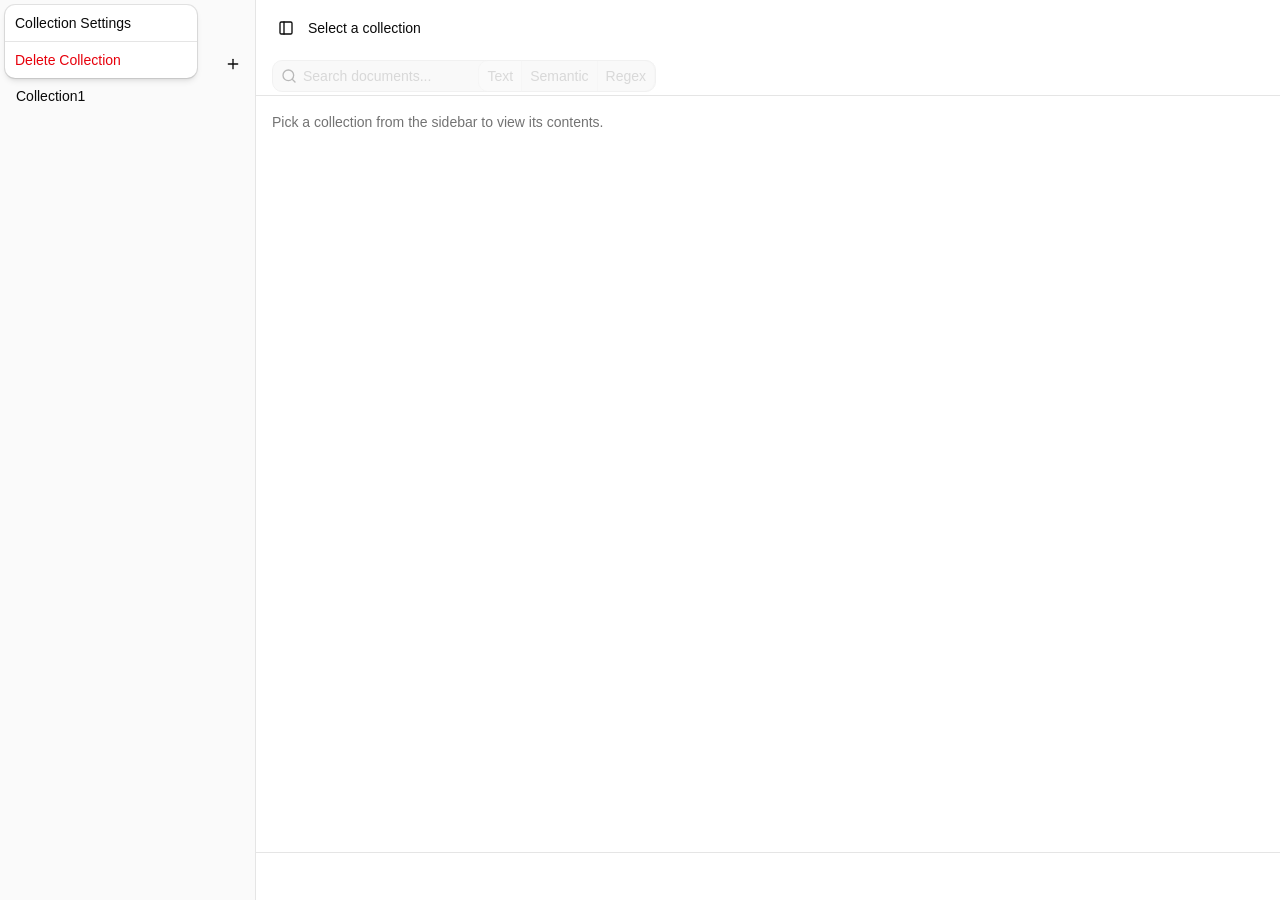
Test: Collections End to End › successfully edits a collection and renders it
Click the menu item "Collection Settings" at (73, 23), box [15,15,131,31]
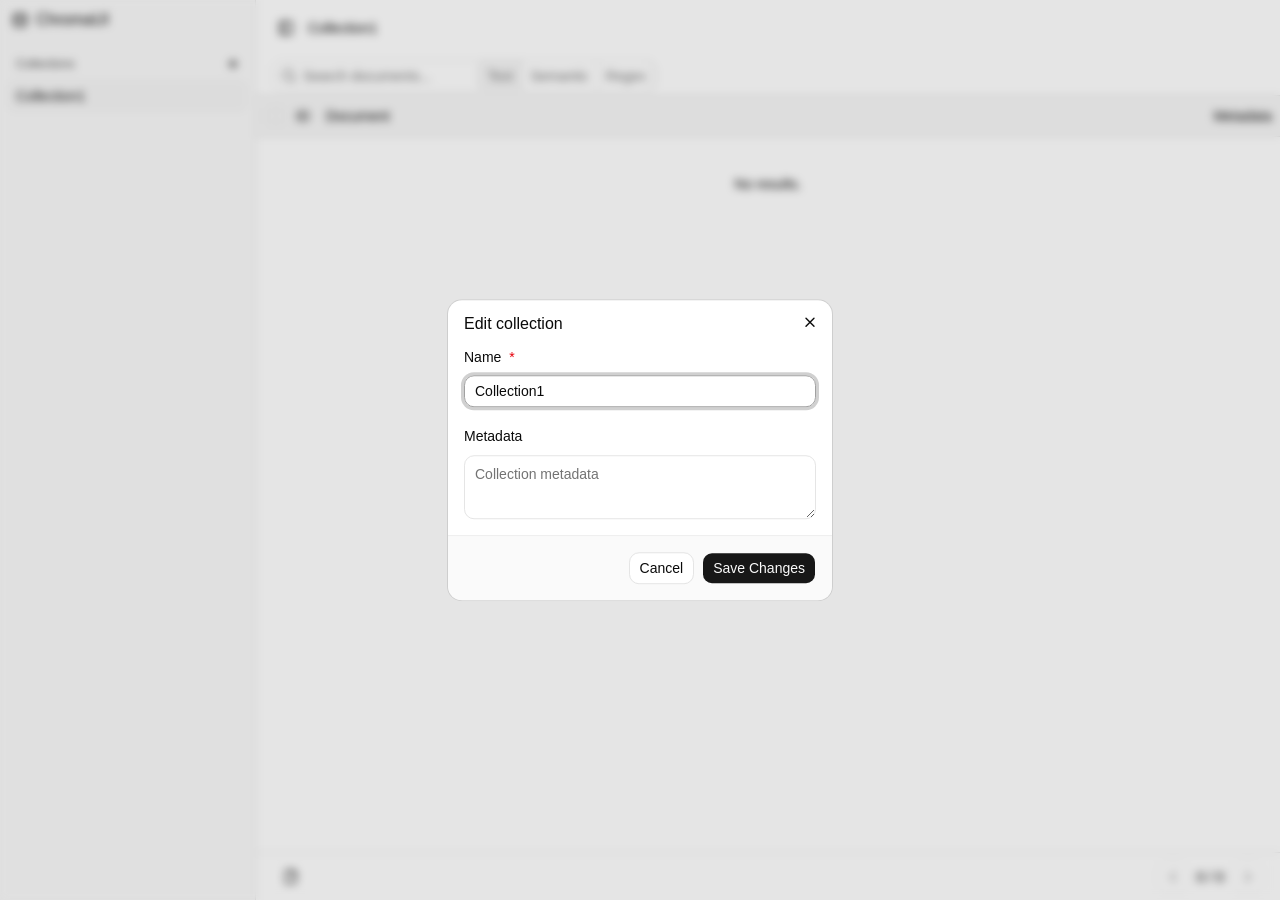
Type "-edited" into the field labelled "Name *" at (640, 392), box [464,376,816,408]
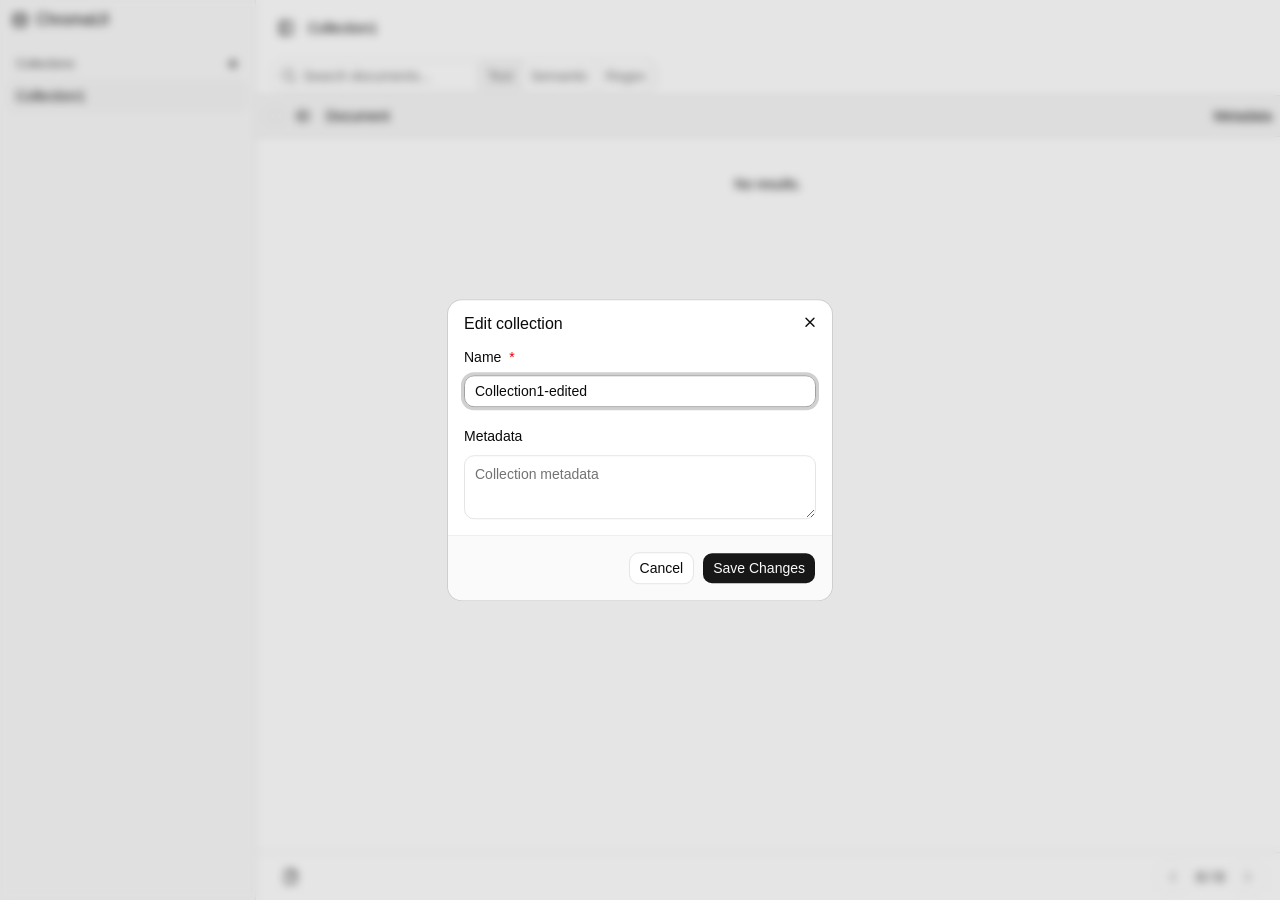
Click the button "Save Changes" at (759, 568), box [702,552,816,584]
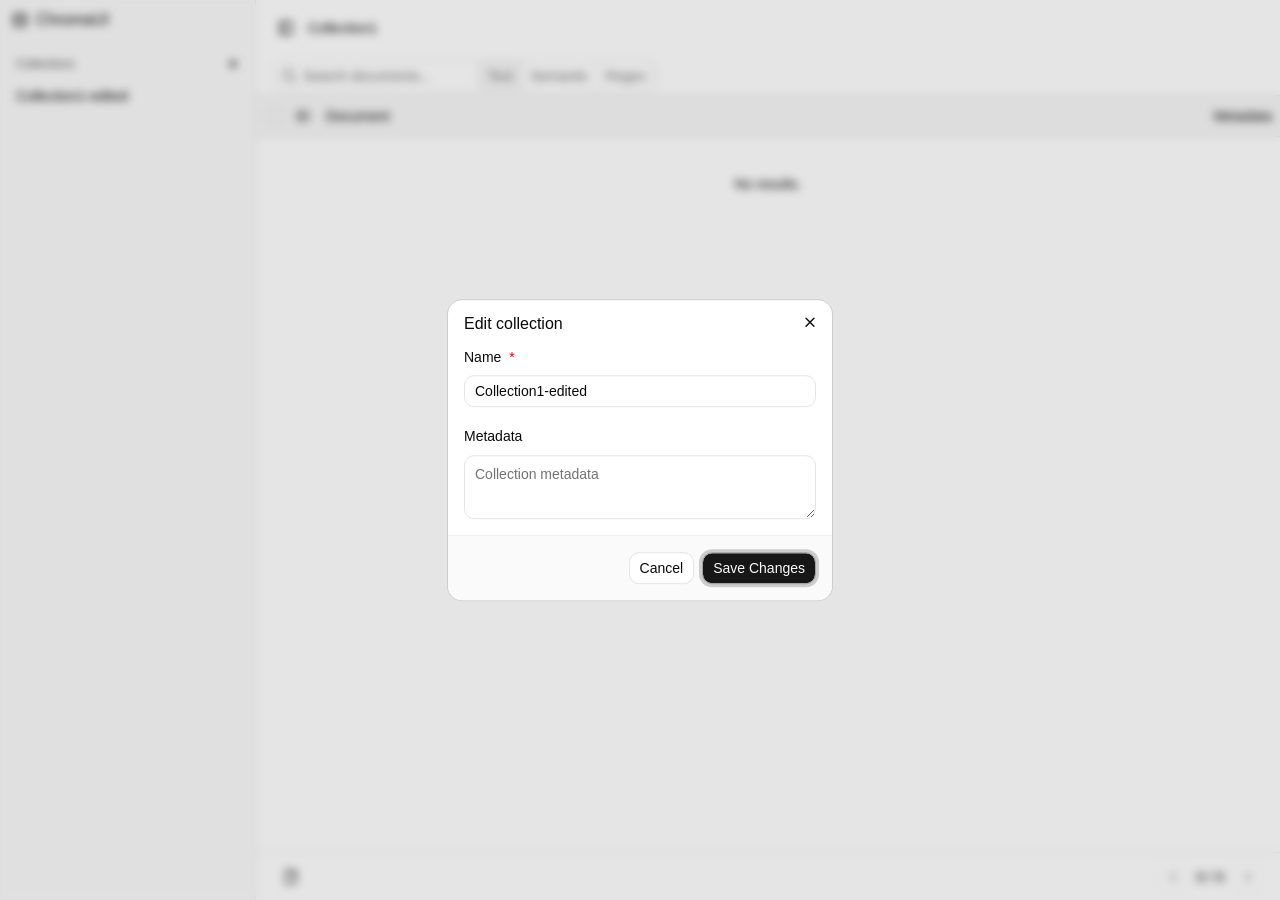
Expected: the text "Collection1-edited" is shown, [16,86,128,106]
